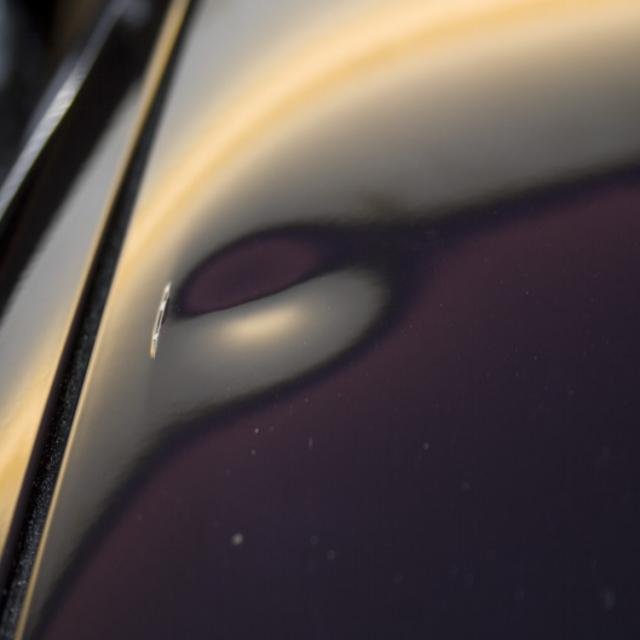dents: (124, 232, 431, 366)
